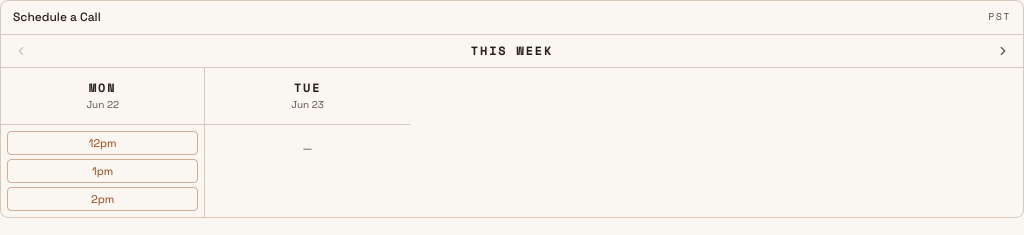
Test: SchedulerCard › next button fetches week 1 data and enables prev
The width and height of the screenshot is (1024, 235).
What coordinates should you click on to do the following:
click the button named "next week"
I would click on:
 (1003, 50)
Its box is [991,38,1015,62].
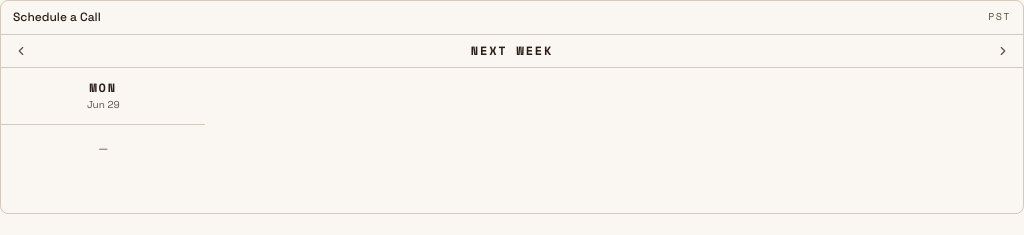
Now the button named "previous week" is enabled, box [9,38,33,62]
